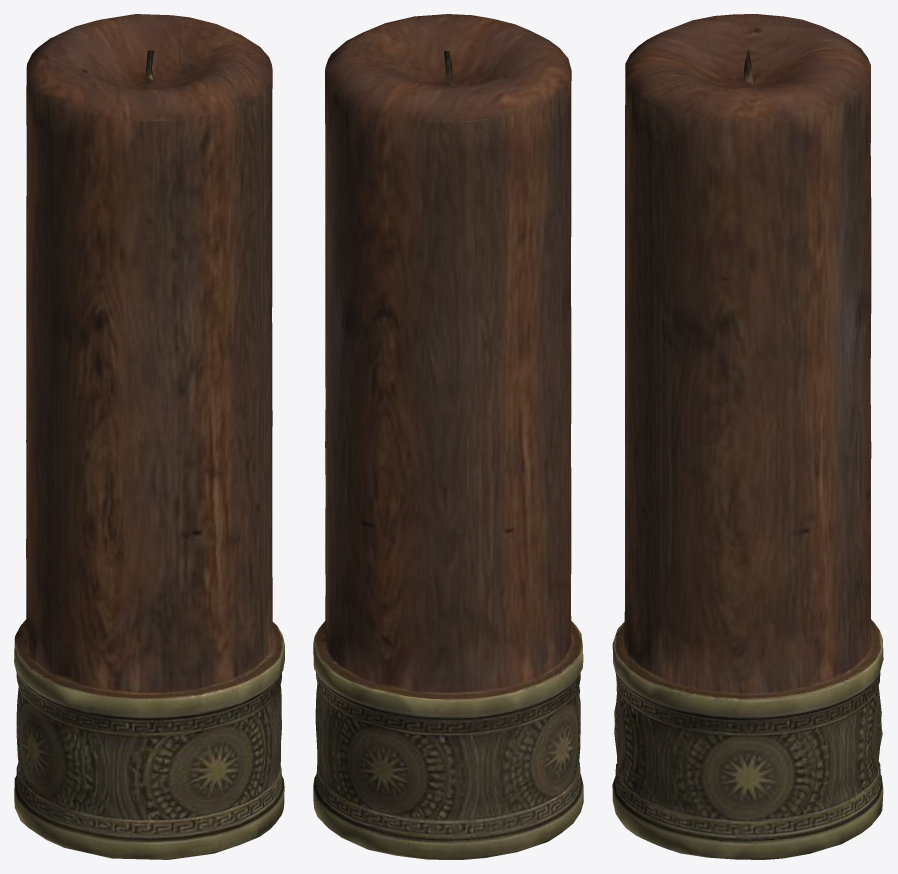
The model's file is p_woodpillar.glb.
3 renders of one model, left to right at view 1: azimuth 30°, elevation 25°; view 2: azimuth 150°, elevation 25°; view 3: azimuth 270°, elevation 25°, orthographic.
Parts seen in each view (by area): view 1: Mesh_0; view 2: Mesh_0; view 3: Mesh_0.
Part boxes in pixels (x1=…): Mesh_0: x1=14, y1=14, x2=284, y2=859; Mesh_0: x1=313, y1=14, x2=583, y2=859; Mesh_0: x1=612, y1=14, x2=883, y2=859.
Size of the model in its own units: 0.6214 by 1.91 by 0.6222.
1 material, 1 textured.
